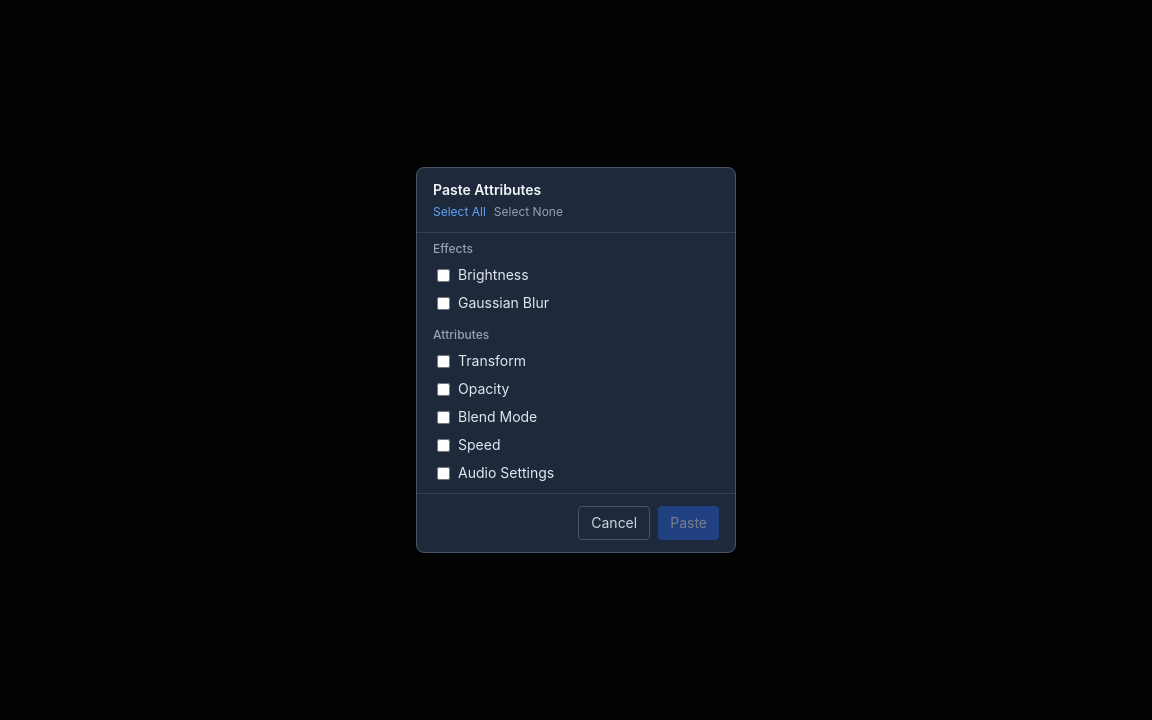
Test: PasteAttributesDialog › select all and select none › should deselect all items when Select None is clicked
First select all
Click the button "Select All": (459, 212) [433,204,486,220]
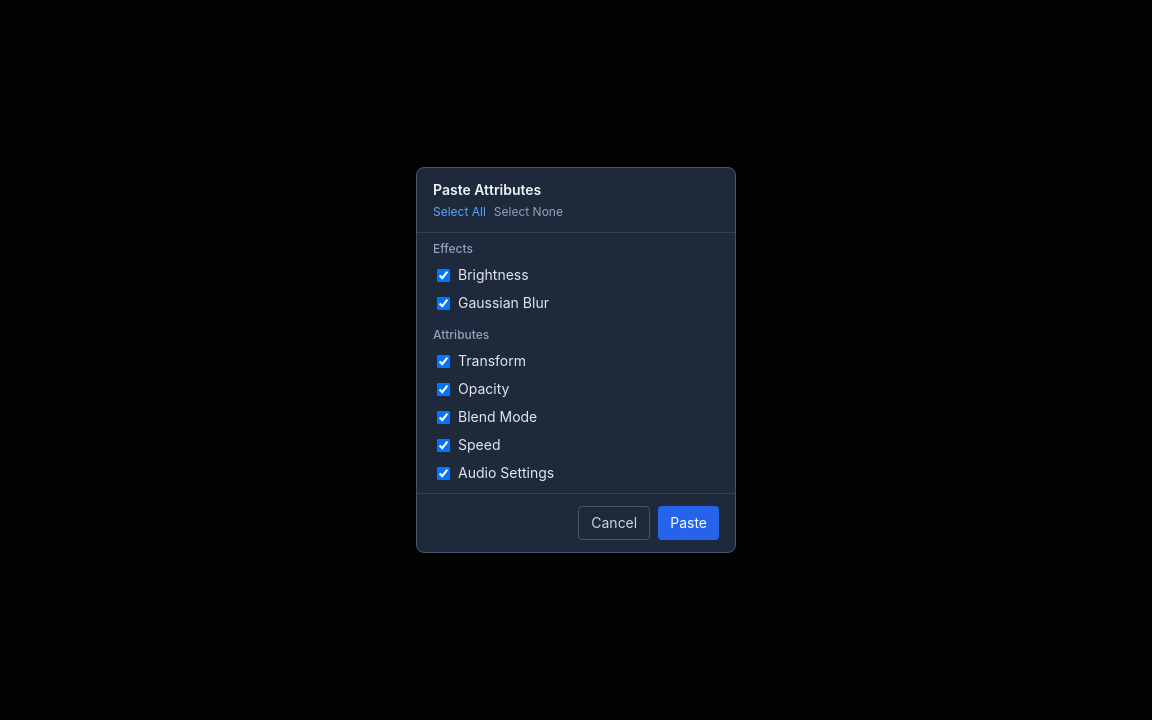
Expected: the button "Paste" is enabled, [658,506,719,540]
Then deselect all
Click the button "Select None": (528, 212) [494,204,563,220]
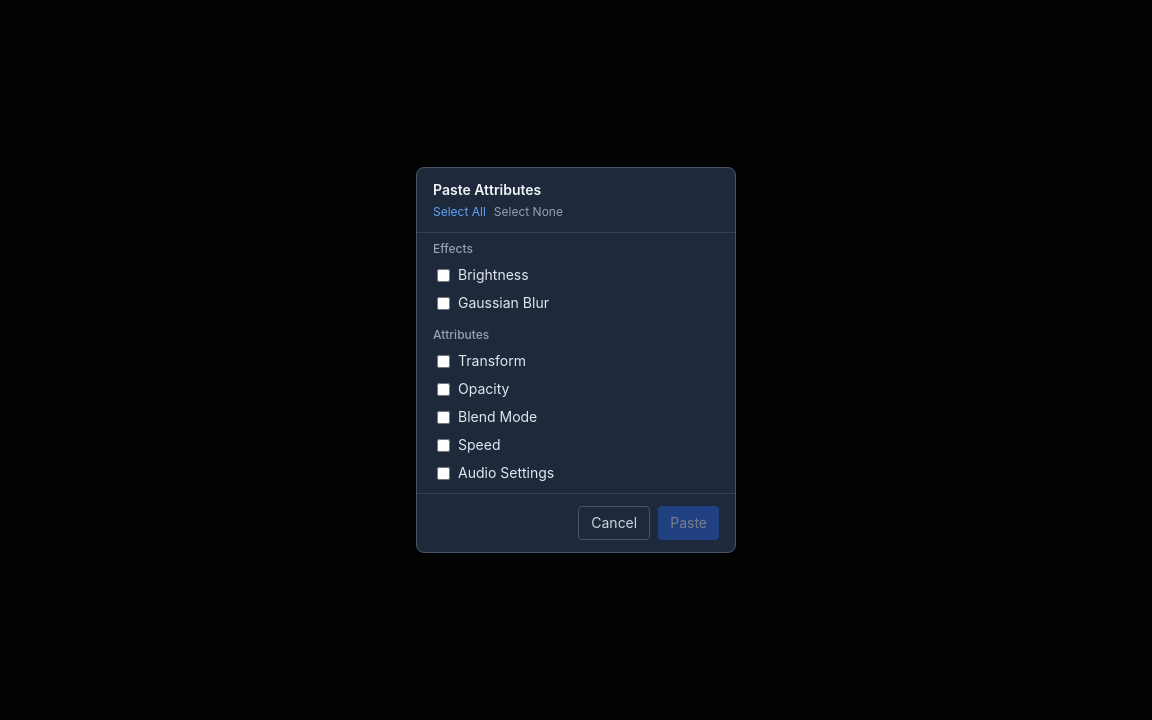
Expected: the button "Paste" is disabled, [658,506,719,540]
